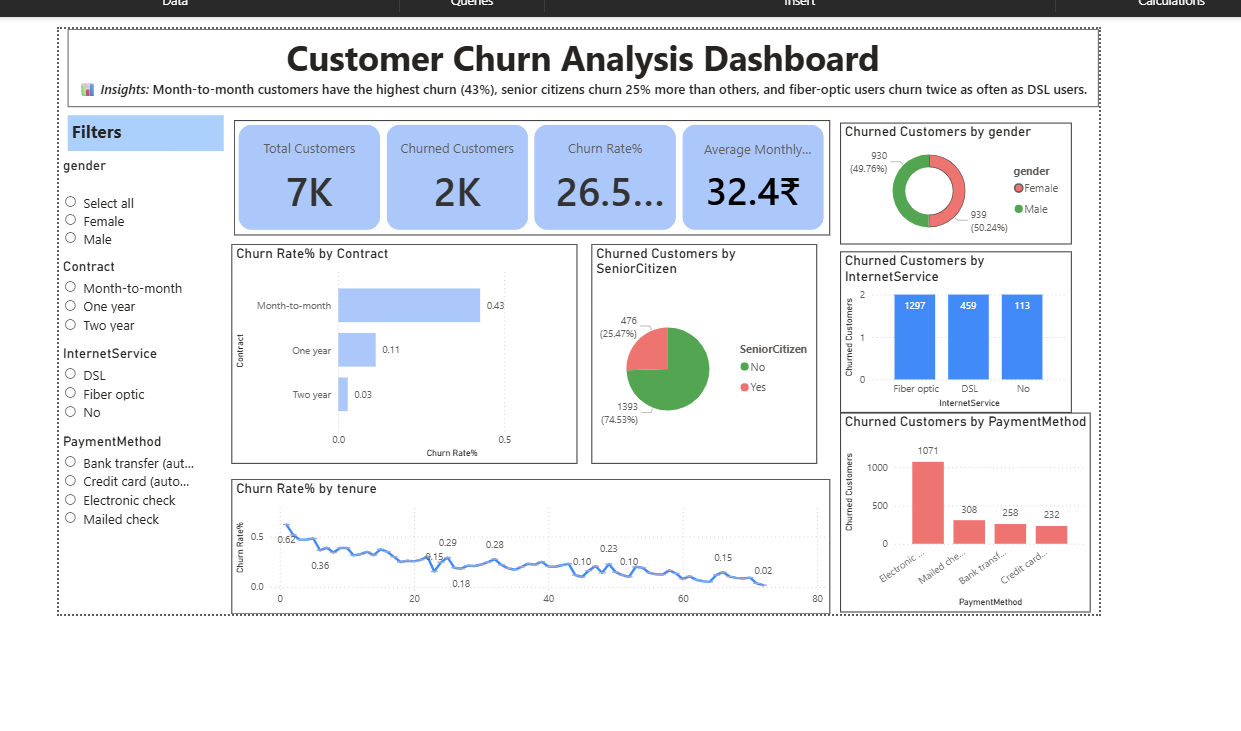

What the dashboard file says about the page in this screenshot:
{"tool":"powerbi","page":{"name":"Page 1","canvas":[1280,720],"ordinal":0},"visuals":[{"type":"textbox","box":[10.4,0,1268.8,96.1],"z":0},{"type":"cardVisual","fields":{"Data":["WA_Fn-UseC_-Telco-Customer-Churn.Total Customers","WA_Fn-UseC_-Telco-Customer-Churn.Churned Customers","WA_Fn-UseC_-Telco-Customer-Churn.Churn Rate%","WA_Fn-UseC_-Telco-Customer-Churn.Average Monthly Charges"]},"box":[215.6,113,733.8,141.6],"z":1000},{"type":"clusteredBarChart","fields":{"Category":["WA_Fn-UseC_-Telco-Customer-Churn.Contract"],"Y":["WA_Fn-UseC_-Telco-Customer-Churn.Churn Rate%"]},"box":[213,264.9,426,270.1],"z":2000},{"type":"donutChart","fields":{"Category":["WA_Fn-UseC_-Telco-Customer-Churn.gender"],"Y":["WA_Fn-UseC_-Telco-Customer-Churn.Churned Customers"]},"box":[961,115.6,284.4,149.4],"z":3000},{"type":"lineChart","fields":{"Category":["WA_Fn-UseC_-Telco-Customer-Churn.tenure"],"Y":["WA_Fn-UseC_-Telco-Customer-Churn.Churn Rate%"]},"box":[212.8,553.8,737.2,166.7],"z":5000},{"type":"columnChart","fields":{"Category":["WA_Fn-UseC_-Telco-Customer-Churn.PaymentMethod"],"Y":["WA_Fn-UseC_-Telco-Customer-Churn.Churned Customers"]},"box":[961,472.7,307.8,245.5],"z":6000},{"type":"listSlicer","fields":{"Values":["WA_Fn-UseC_-Telco-Customer-Churn.gender"]},"box":[0,150.6,140.3,209.1],"z":7000},{"type":"pieChart","fields":{"Category":["WA_Fn-UseC_-Telco-Customer-Churn.SeniorCitizen"],"Y":["WA_Fn-UseC_-Telco-Customer-Churn.Churned Customers"]},"box":[655.8,264.9,277.9,270.1],"z":8000},{"type":"listSlicer","fields":{"Values":["WA_Fn-UseC_-Telco-Customer-Churn.Contract"]},"box":[0,282.1,164.1,215.4],"z":9000},{"type":"listSlicer","fields":{"Values":["WA_Fn-UseC_-Telco-Customer-Churn.InternetService"]},"box":[0,389.7,164.1,219.2],"z":10000},{"type":"listSlicer","fields":{"Values":["WA_Fn-UseC_-Telco-Customer-Churn.PaymentMethod"]},"box":[0,497.4,179.5,214.1],"z":11000},{"type":"textbox","box":[10.4,106.5,192.2,44.2],"z":12000},{"type":"clusteredColumnChart","fields":{"Category":["WA_Fn-UseC_-Telco-Customer-Churn.InternetService"],"Y":["WA_Fn-UseC_-Telco-Customer-Churn.Churned Customers"]},"box":[961,274,284.4,198.7],"z":12001}]}

Visuals, with their boxes on the page's 1280x720 design canvas (x1, y1, x2, y2). These are canvas units, not pixel positions in the 1241x731 screenshot, which may show the page scaled, cropped or inside an application window:
textbox: 10,0,1279,96
cardVisual - WA_Fn-UseC_-Telco-Customer-Churn.Total Customers x WA_Fn-UseC_-Telco-Customer-Churn.Churned Customers: 216,113,949,255
clusteredBarChart - WA_Fn-UseC_-Telco-Customer-Churn.Contract x WA_Fn-UseC_-Telco-Customer-Churn.Churn Rate%: 213,265,639,535
donutChart - WA_Fn-UseC_-Telco-Customer-Churn.gender x WA_Fn-UseC_-Telco-Customer-Churn.Churned Customers: 961,116,1245,265
lineChart - WA_Fn-UseC_-Telco-Customer-Churn.tenure x WA_Fn-UseC_-Telco-Customer-Churn.Churn Rate%: 213,554,950,720
columnChart - WA_Fn-UseC_-Telco-Customer-Churn.PaymentMethod x WA_Fn-UseC_-Telco-Customer-Churn.Churned Customers: 961,473,1269,718
listSlicer - WA_Fn-UseC_-Telco-Customer-Churn.gender: 0,151,140,360
pieChart - WA_Fn-UseC_-Telco-Customer-Churn.SeniorCitizen x WA_Fn-UseC_-Telco-Customer-Churn.Churned Customers: 656,265,934,535
listSlicer - WA_Fn-UseC_-Telco-Customer-Churn.Contract: 0,282,164,498
listSlicer - WA_Fn-UseC_-Telco-Customer-Churn.InternetService: 0,390,164,609
listSlicer - WA_Fn-UseC_-Telco-Customer-Churn.PaymentMethod: 0,497,180,712
textbox: 10,106,203,151
clusteredColumnChart - WA_Fn-UseC_-Telco-Customer-Churn.InternetService x WA_Fn-UseC_-Telco-Customer-Churn.Churned Customers: 961,274,1245,473
